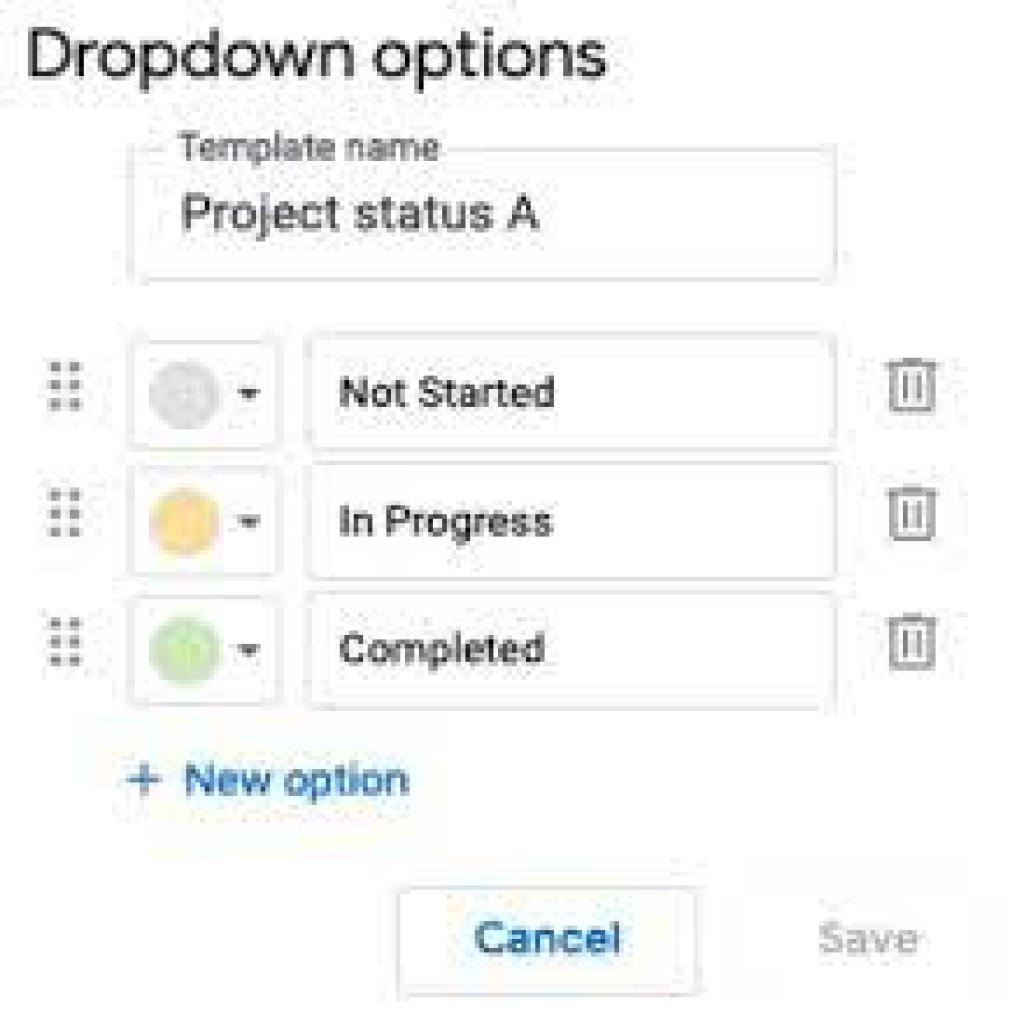button: (394, 887, 701, 998)
icon: (876, 349, 947, 425), (879, 610, 947, 683), (39, 481, 101, 559), (884, 474, 946, 545), (39, 347, 92, 424), (39, 608, 89, 675)
input: (129, 149, 835, 280), (305, 329, 838, 455), (305, 462, 839, 582), (309, 593, 838, 712)
label: (124, 753, 413, 812), (796, 905, 934, 960)
